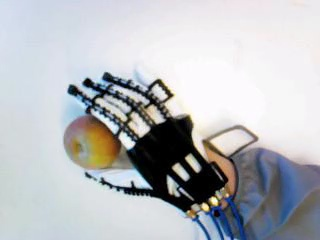apple: (63, 116, 118, 170)
hand: (68, 72, 230, 222)
